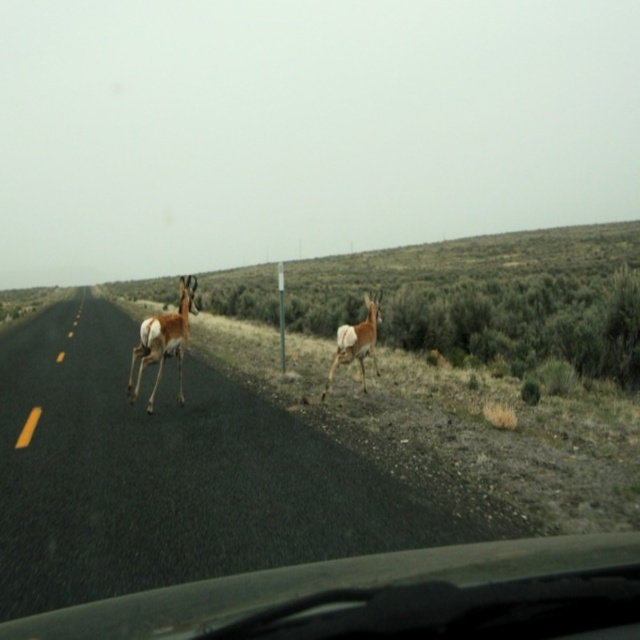Deer: (126, 276, 199, 412), (320, 292, 383, 405)
